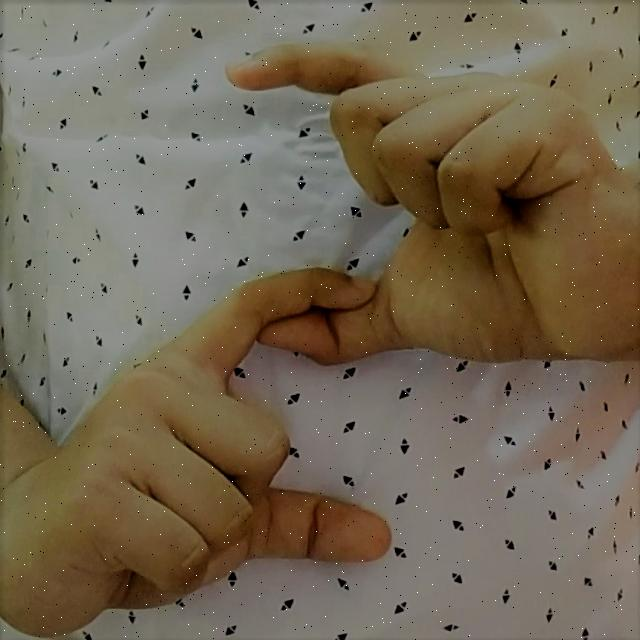S: (73, 28, 624, 620)
